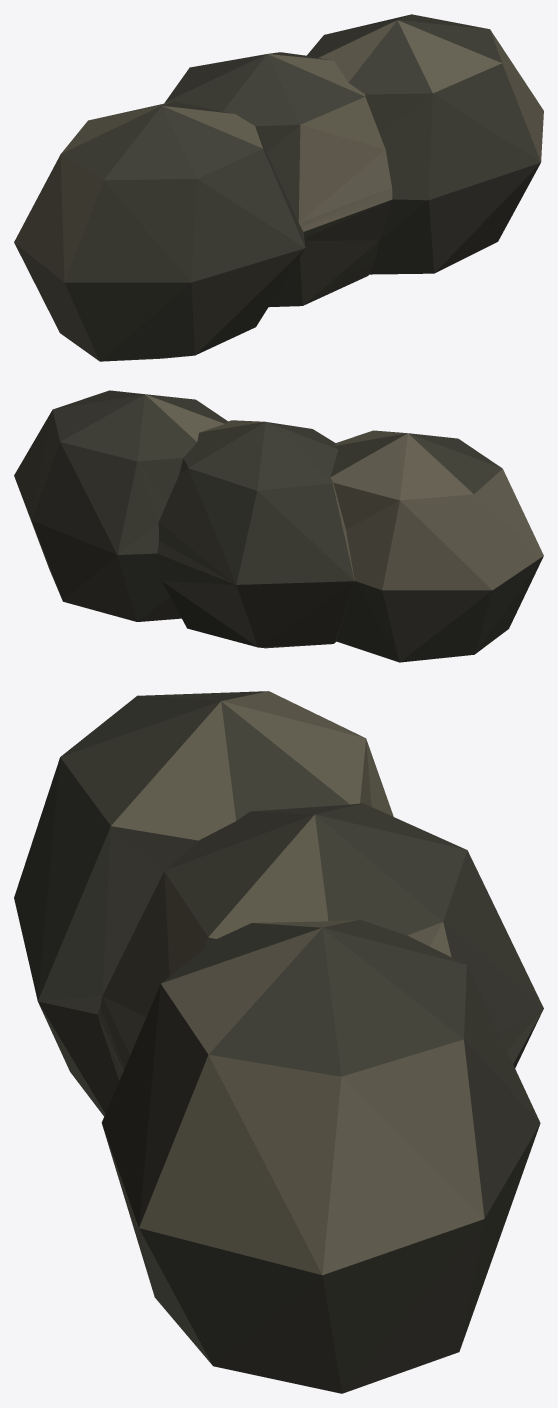
Rendered from Rock_Cluster_02.fbx.
The picture shows the model from 3 angles, top to bottom: view 1: azimuth 30°, elevation 25°; view 2: azimuth 150°, elevation 25°; view 3: azimuth 270°, elevation 25°; orthographic projection. The views are drawn at different scales.
Parts seen in each view (by area): view 1: Rock_Cluster_02_Mesh; view 2: Rock_Cluster_02_Mesh; view 3: Rock_Cluster_02_Mesh.
Boxes of the visible parts, x1,y1,x2,y2 form: Rock_Cluster_02_Mesh: [14, 14, 543, 361]; Rock_Cluster_02_Mesh: [14, 390, 543, 662]; Rock_Cluster_02_Mesh: [14, 691, 543, 1393].
Size of the model in its own units: 1.46 by 0.66 by 0.7137.
1 material, 1 textured.
